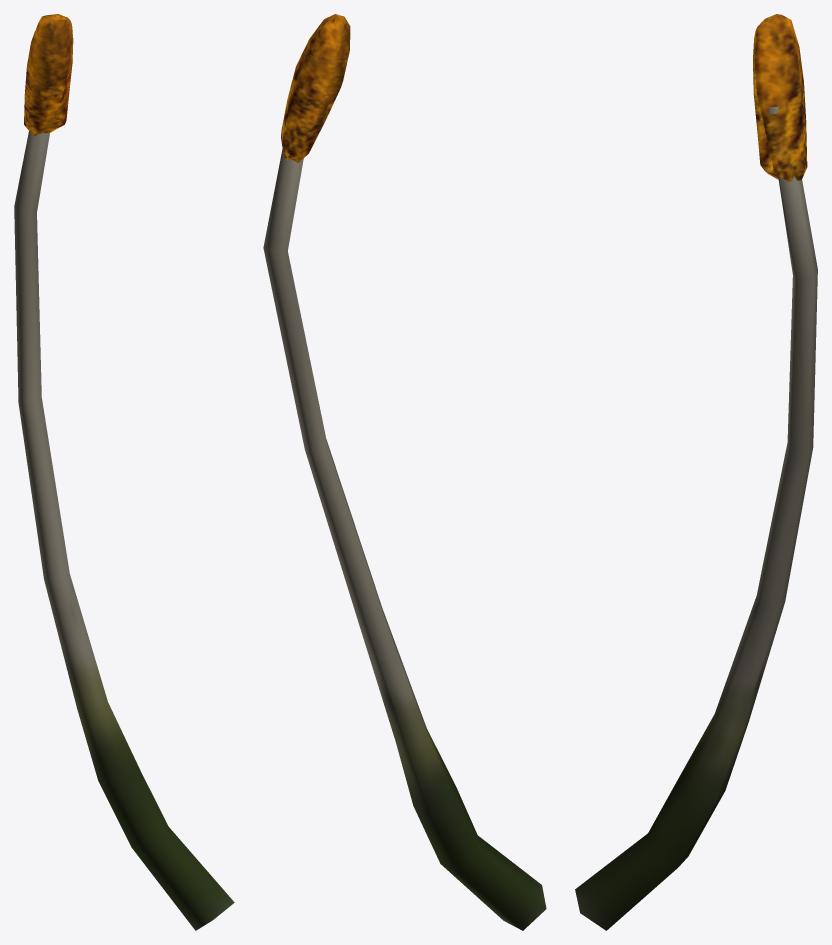
File: Main_Filament.gltf
3 renders of one model, left to right at view 1: azimuth 90°, elevation 25°; view 2: azimuth 150°, elevation 25°; view 3: azimuth 270°, elevation 25°, orthographic. The views are drawn at different scales.
Parts seen in each view (by area): view 1: Main_Filament; view 2: Main_Filament; view 3: Main_Filament.
Part boxes in pixels (x1=…): Main_Filament: x1=14, y1=14, x2=234, y2=930; Main_Filament: x1=263, y1=14, x2=546, y2=930; Main_Filament: x1=575, y1=14, x2=817, y2=930.
Bounding box in the file's own units: 1.7 × 8.66 × 1.99.
Materials: 2 (2 with a texture image).
